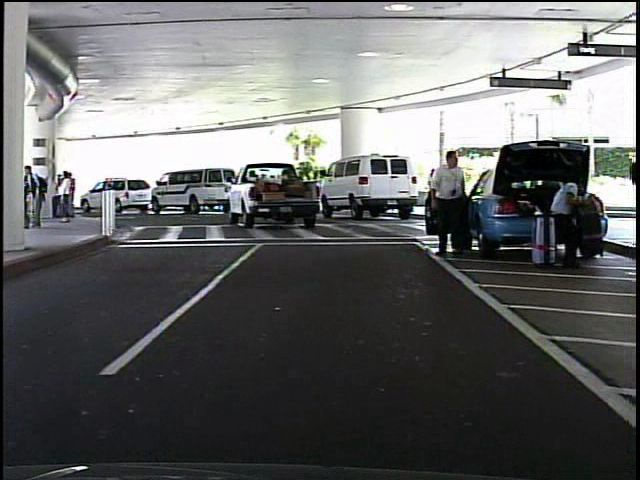person: (425, 145, 472, 259), (543, 168, 591, 268)
